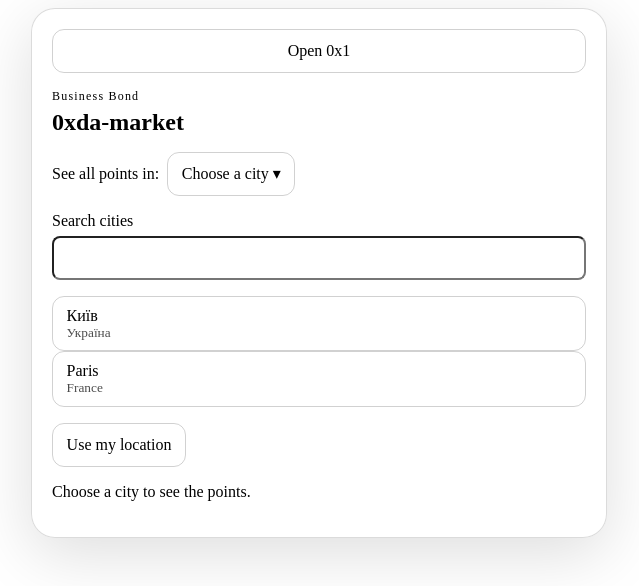
Business Dock › offers searchable manual cities and ignores a late location result after a choice
This screenshot has width=639, height=586.
Click the button "Use my location" at point(119, 445), box [52, 423, 186, 467]
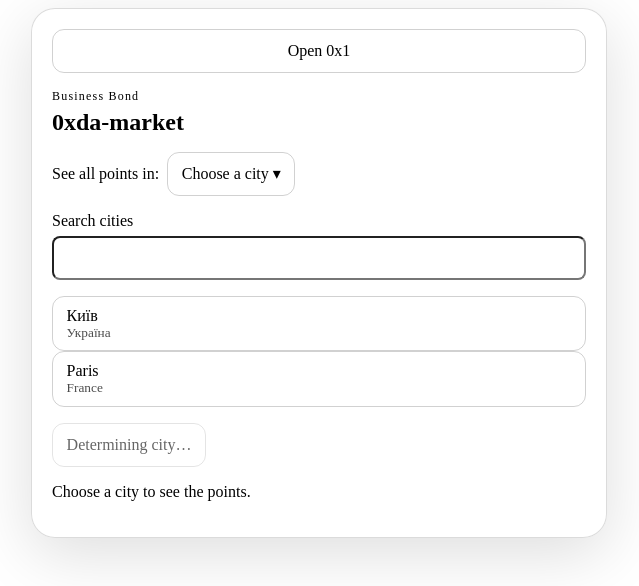
Type "Париж" into the search field at point(319, 258), box [52, 236, 586, 280]
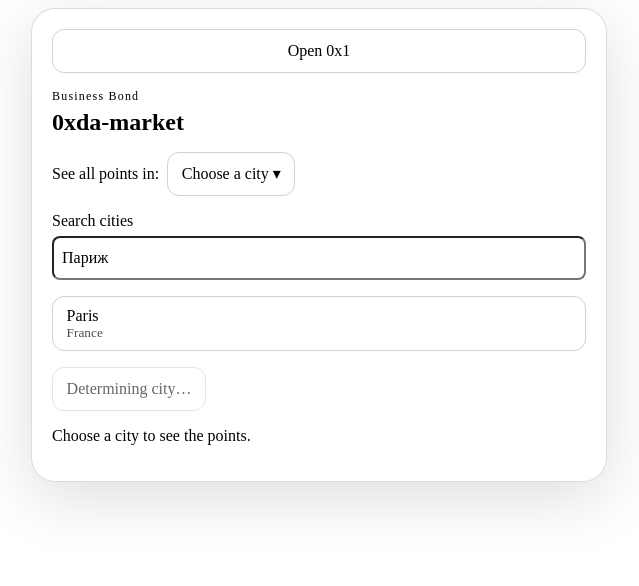
Click the button "Paris France" at point(83, 315), box [52, 296, 586, 351]
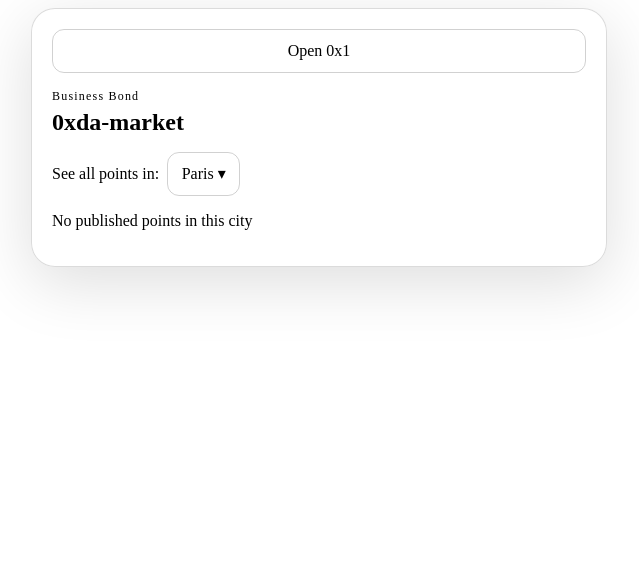
Expected: the text "No published points in this city" is shown, [52, 212, 252, 229]
